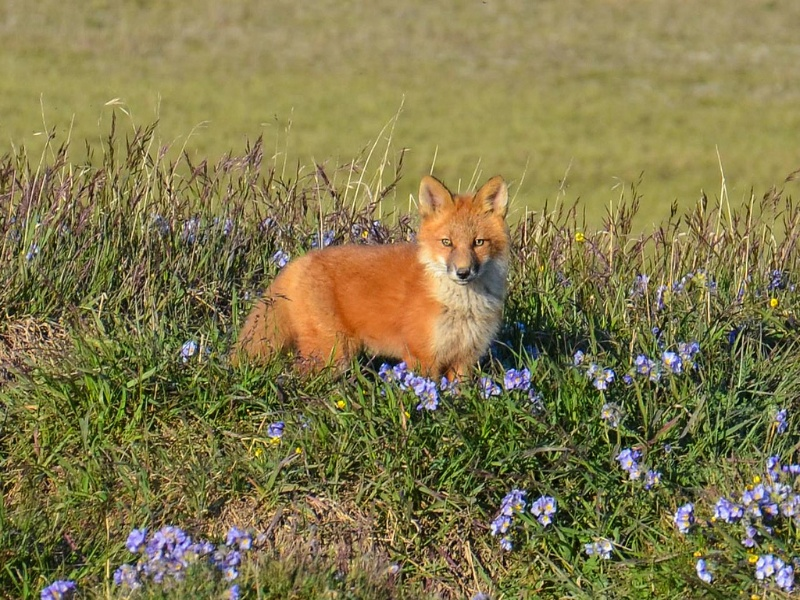fox: (232, 171, 514, 388)
